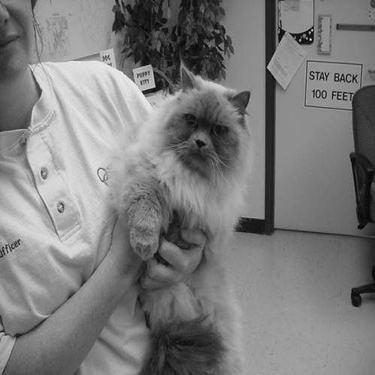cat: (103, 73, 275, 363)
